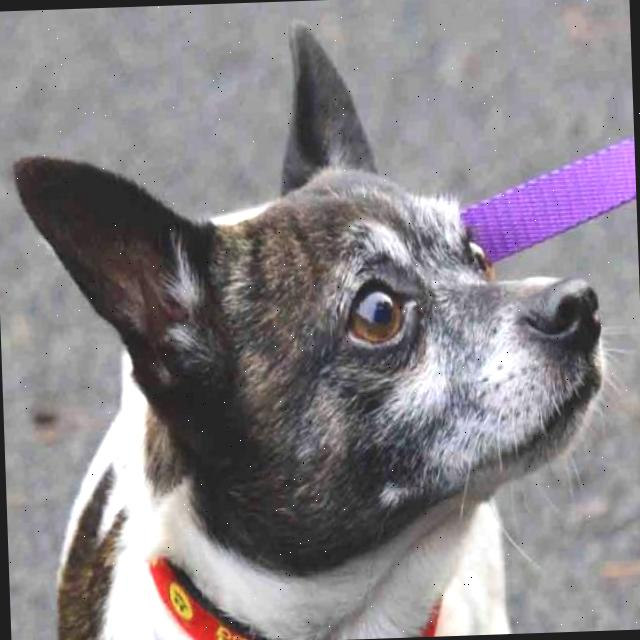chihuahua_dog: (0, 7, 619, 607)
